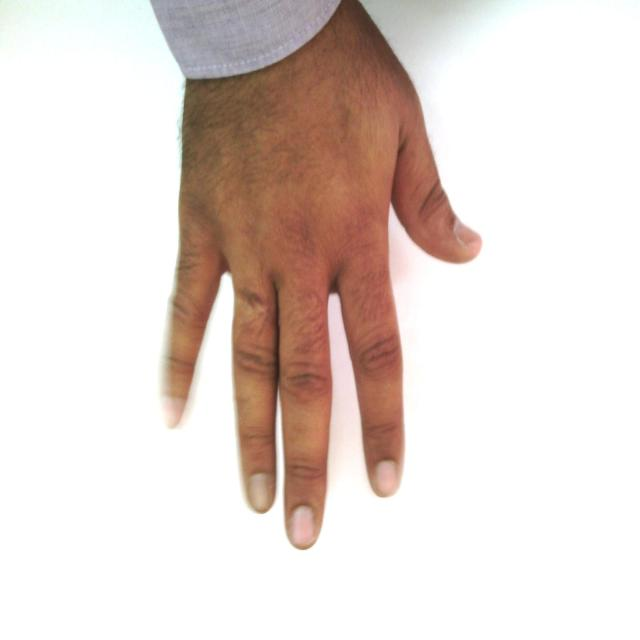hand: (164, 75, 482, 540)
